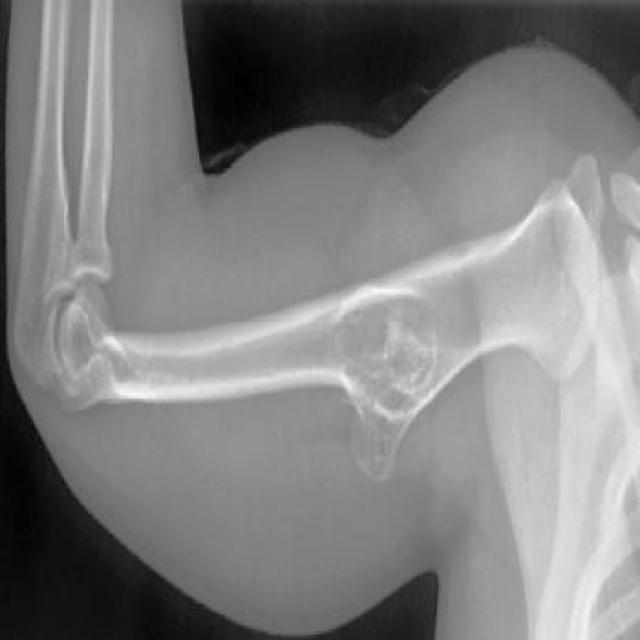Fracture: (333, 241, 445, 469)
